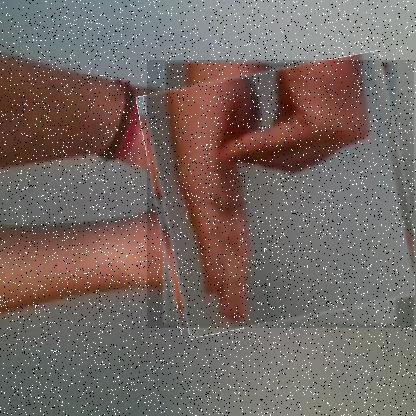Z: (147, 60, 415, 329)
